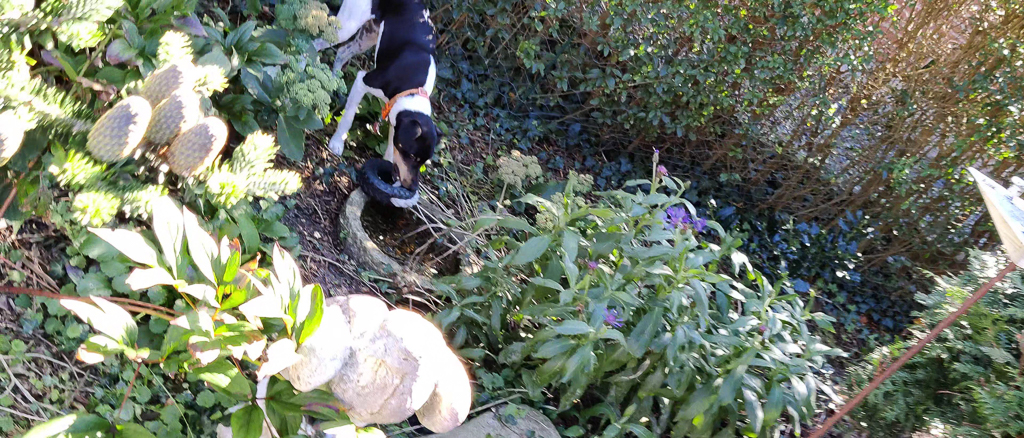Dog: (295, 0, 458, 202)
Eagle: (238, 285, 479, 438)
